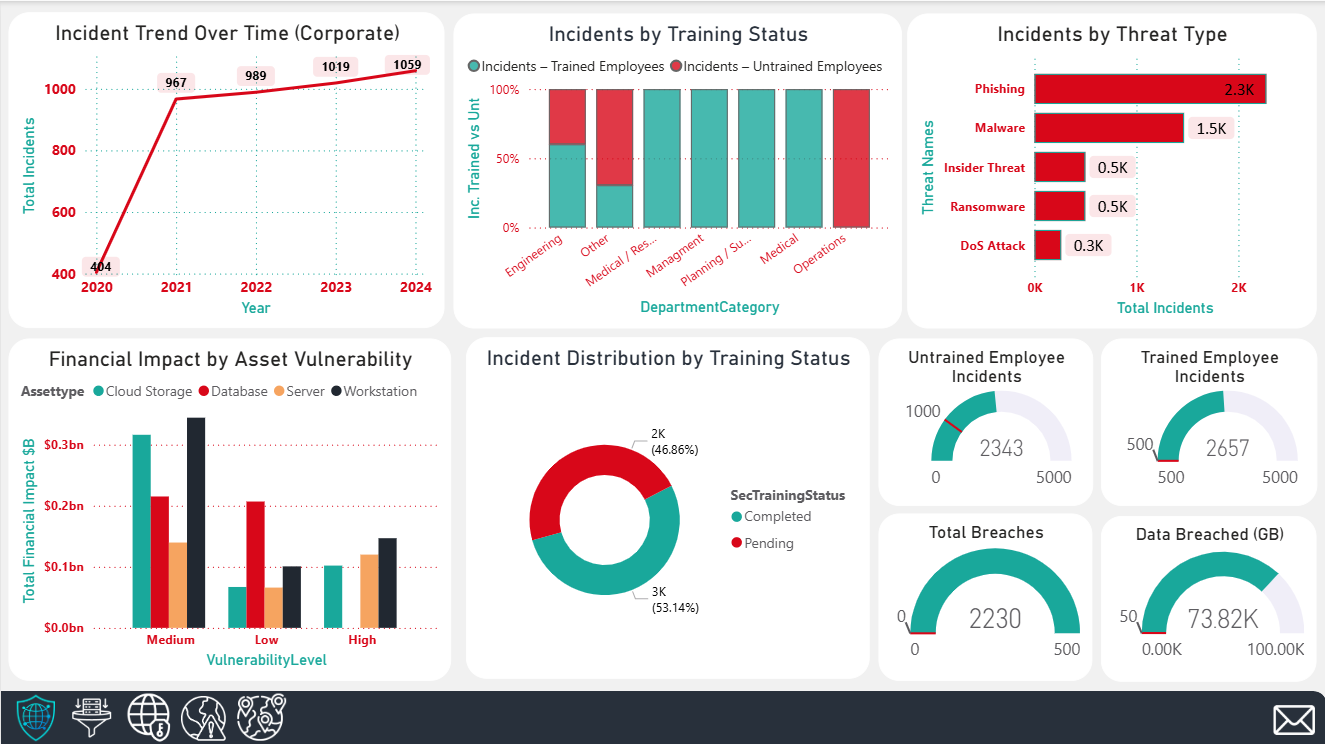

The dashboard page shown, as its layout file describes it:
{"tool":"powerbi","page":{"name":"Corporate Cyber","canvas":[1280,720],"ordinal":0},"visuals":[{"type":"hundredPercentStackedColumnChart","title":"Incidents by Training Status","fields":{"Category":["employees.DepartmentCategory"],"Y":["Measures – Corporate.Incidents – Trained Employees","Measures – Corporate.Incidents – Untrained Employees"]},"box":[436.4,12.2,433,303.9],"z":0},{"type":"gauge","title":"Untrained Employee Incidents","fields":{"TargetValue":["Measures – Corporate.Target – Incidents Untrained"],"Y":["Measures – Corporate.Incidents – Untrained Employees"]},"box":[846.8,326,207.5,161.7],"z":1000},{"type":"donutChart","title":"Incident Distribution by Training Status","fields":{"Category":["employees.SecurityTrainingStatus"],"Y":["Measures – Corporate.Incidents – Trained Employees","Measures – Corporate.Incidents – Untrained Employees"]},"box":[448.6,325,389.6,329.5],"z":2000},{"type":"lineChart","title":"Incident Trend Over Time (Corporate)","fields":{"Category":["Dim_Year.Year"],"Y":["Measures – Corporate.Total Incidents"]},"box":[7.8,11.1,420.8,305],"z":3000},{"type":"clusteredBarChart","title":"Incidents by Threat Type","fields":{"Category":["threats.ThreatName"],"Y":["Measures – Corporate.Total Incidents"]},"box":[875,12.2,395.2,303.9],"z":4000},{"type":"clusteredColumnChart","title":"Financial Impact by Asset Vulnerability","fields":{"Category":["assets.VulnerabilityLevel"],"Series":["assets.Assettype"],"Y":["Measures – Corporate.Total Financial Impact"]},"box":[7.8,326.2,427.5,330.6],"z":5000},{"type":"shape","box":[0,665.7,1280,54.3],"z":7000},{"type":"gauge","title":"Total Breaches","fields":{"TargetValue":["Measures – Corporate.Target – Total Breaches"],"Y":["Measures – Corporate.Total Breaches"]},"box":[847.1,494.8,206.7,161.7],"z":8000},{"type":"gauge","title":"Trained Employee Incidents","fields":{"MaxValue":["Measures – Corporate.Total Incidents"],"MinValue":["Measures – Corporate.Target – Incidents Trained"],"Y":["Measures – Corporate.Incidents – Trained Employees"]},"box":[1061.5,326,208.7,161.7],"z":9000},{"type":"gauge","title":"Data Breached (GB)","fields":{"TargetValue":["Measures – Corporate.Target – Data Breached (GB)"],"Y":["Measures – Corporate.Total Data Breached (GB)"]},"box":[1062.1,496.5,208.3,160],"z":10000},{"type":"image","box":[12.5,669.2,43.1,44.5],"z":11000},{"type":"image","title":"globalmaps","box":[228.2,667.8,47.3,45.9],"z":12000},{"type":"image","title":"filterimg","box":[66.8,673.3,42.2,37.8],"z":13000},{"type":"image","title":"globalthreat","box":[120.1,668.9,44.4,46.7],"z":14000},{"type":"image","title":"global risk","box":[173.9,667.8,43.1,47.3],"z":15000},{"type":"image","title":"mail","box":[1228.5,673.4,40.3,41.7],"z":17000}]}

Visuals, with their boxes in screenshot pixels (x1, y1, x2, y2), scaled from the page's 1280x720 canvas onto the 1325x744 screenshot:
"Incidents by Training Status" hundredPercentStackedColumnChart: 452,13,900,327
"Untrained Employee Incidents" gauge: 877,337,1091,504
"Incident Distribution by Training Status" donutChart: 464,336,868,676
"Incident Trend Over Time (Corporate)" lineChart: 8,11,444,327
"Incidents by Threat Type" clusteredBarChart: 906,13,1315,327
"Financial Impact by Asset Vulnerability" clusteredColumnChart: 8,337,451,679
shape: 0,688,1324,743
"Total Breaches" gauge: 877,511,1091,678
"Trained Employee Incidents" gauge: 1099,337,1315,504
"Data Breached (GB)" gauge: 1099,513,1315,678
image: 13,692,58,737
"globalmaps" image: 236,690,285,737
"filterimg" image: 69,696,113,735
"globalthreat" image: 124,691,170,739
"global risk" image: 180,690,225,739
"mail" image: 1272,696,1313,739
